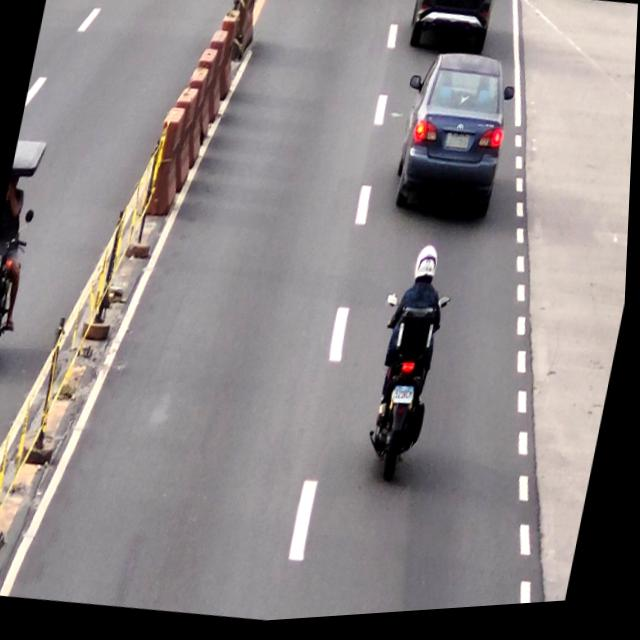Car: (394, 54, 519, 232), (410, 0, 497, 62)
License-Plate: (392, 386, 421, 416)
Motorcycle: (364, 249, 459, 498)
